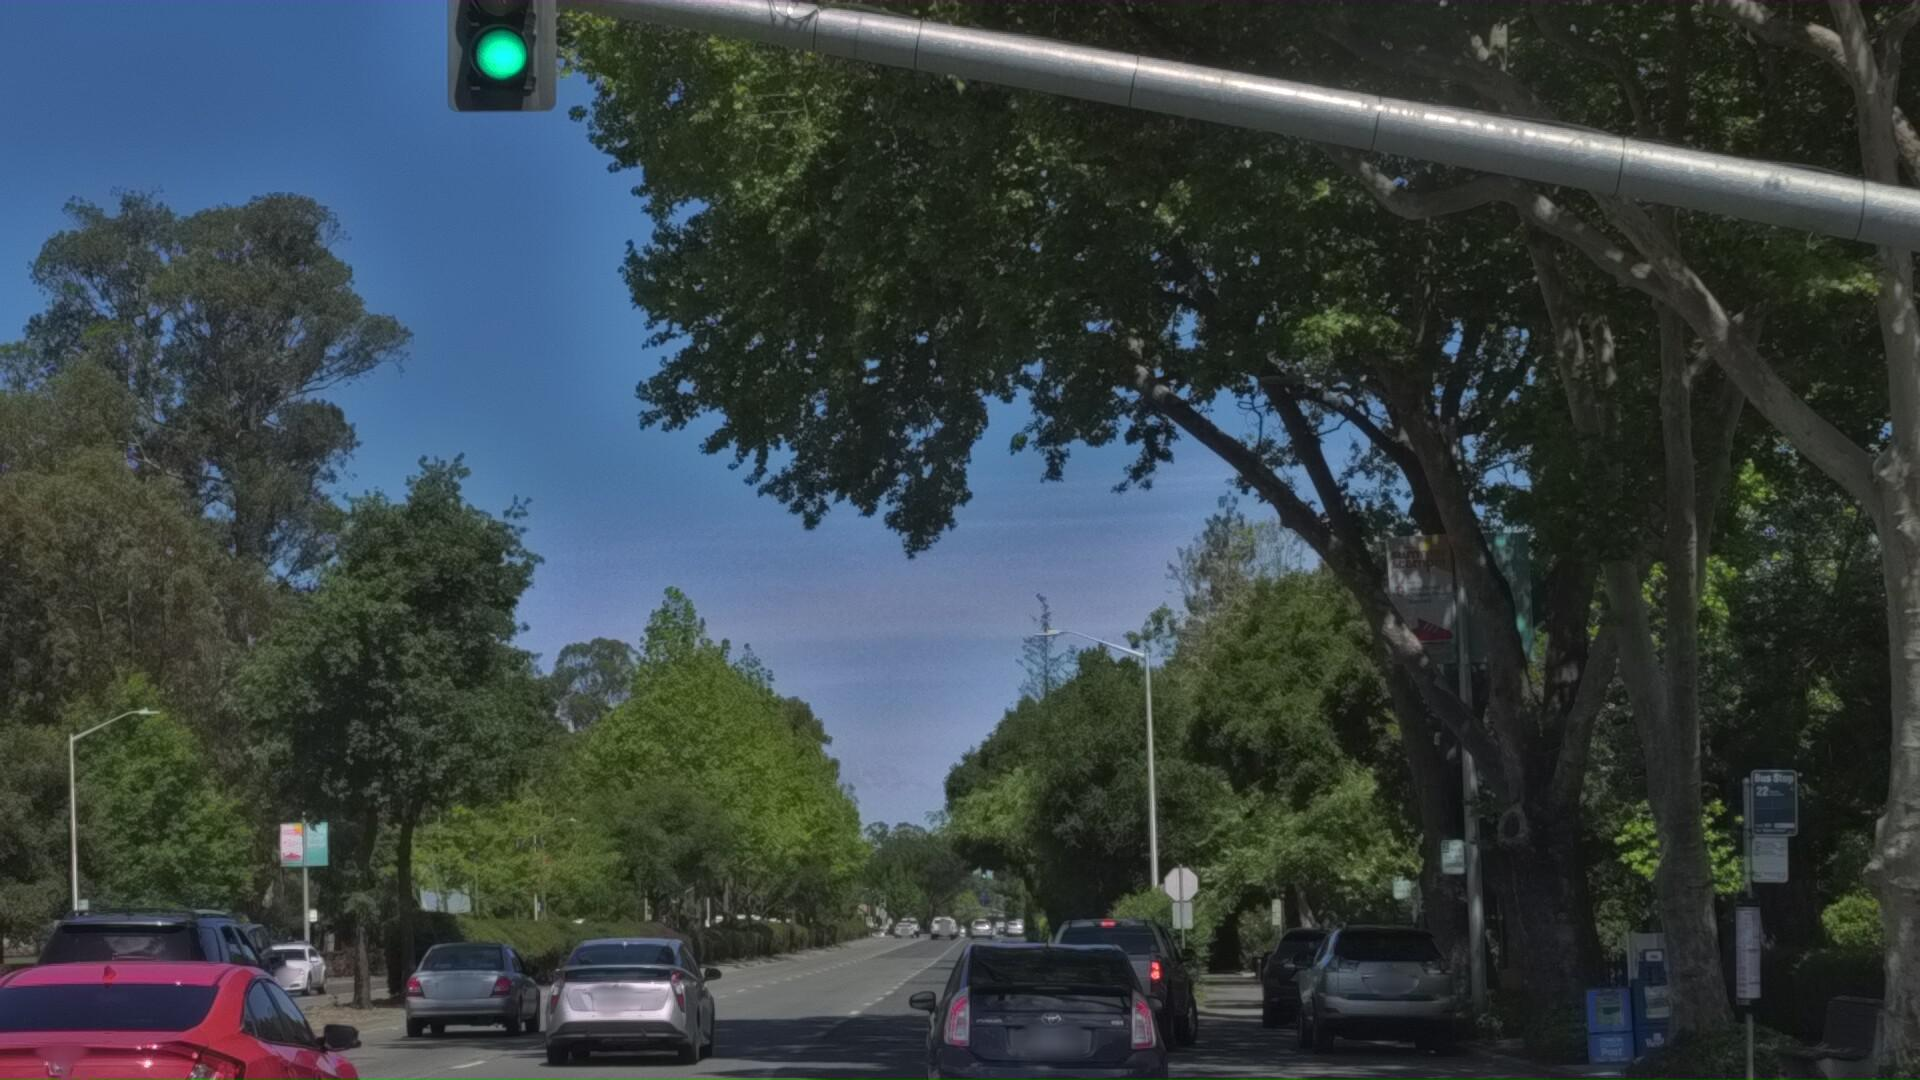car: (9, 968, 319, 1080), (0, 996, 371, 1080), (884, 1011, 1188, 1080), (1025, 989, 1234, 1080), (1284, 1000, 1470, 1080), (522, 1009, 723, 1080), (396, 1015, 553, 1080), (1251, 1006, 1389, 1080)
